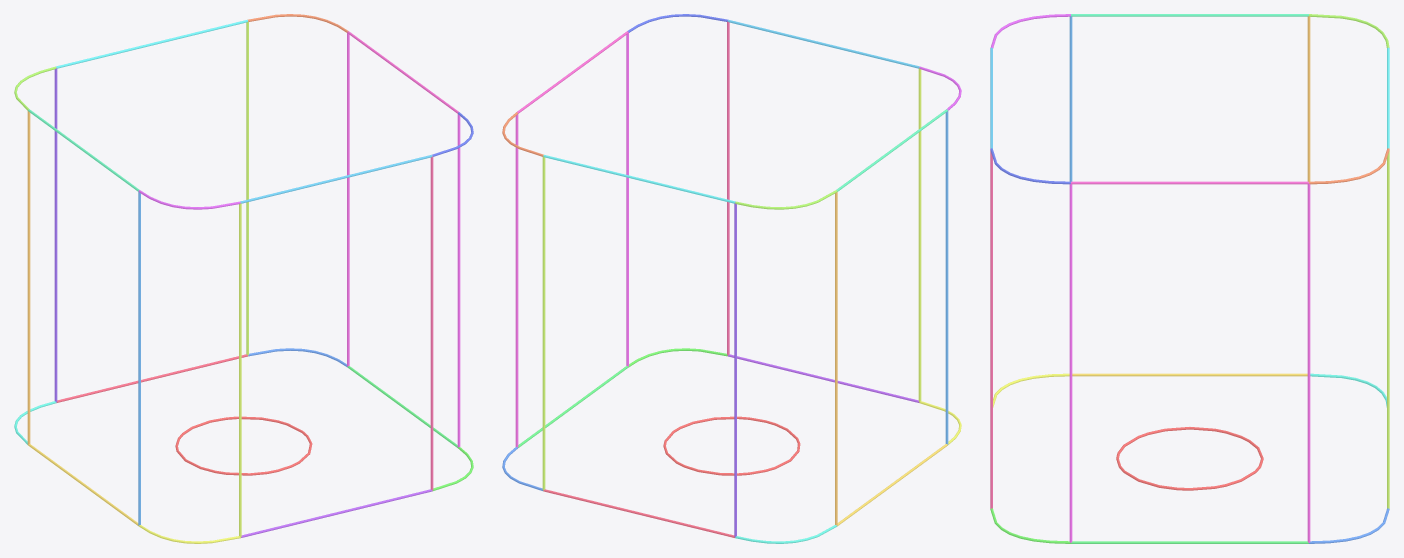
File: onshape_simple_shape.gltf
3 renders of one model, left to right at view 1: azimuth 30°, elevation 25°; view 2: azimuth 150°, elevation 25°; view 3: azimuth 270°, elevation 25°, orthographic. The views are drawn at different scales.
Size of the model in its own units: 0.5814 by 0.5814 by 0.5814.
